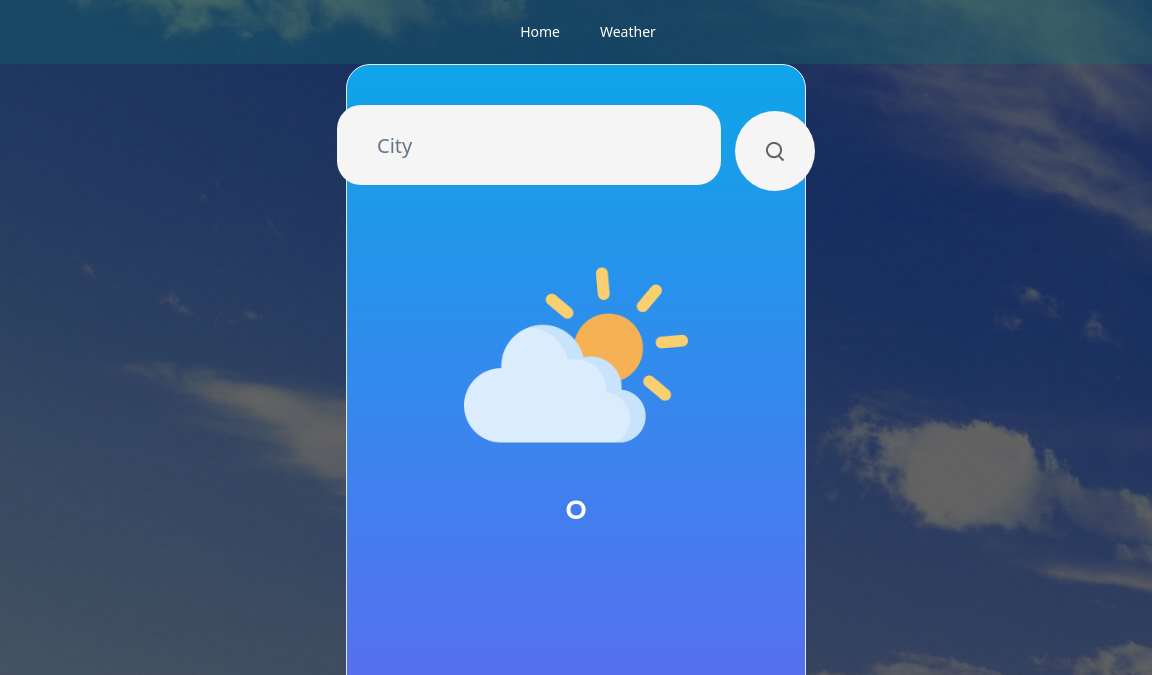
Scenario: Homepage test › change to homepage
Click the button "Home" at (540, 32), box left=508, top=14, right=572, bottom=50
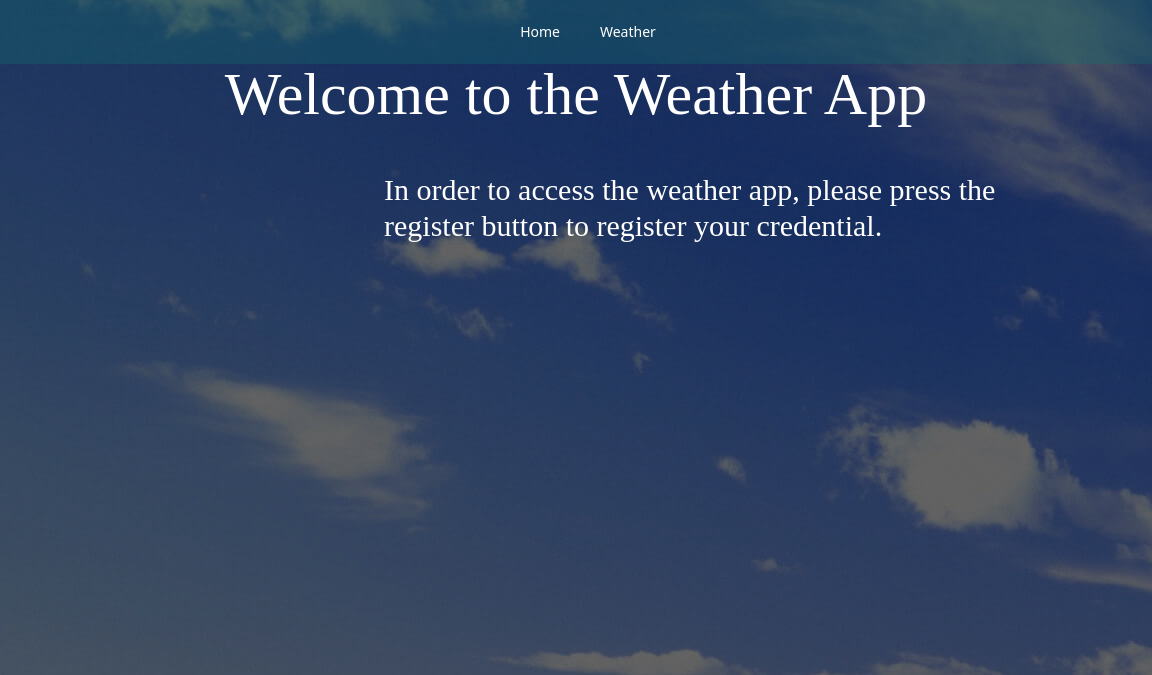
Expected: the heading "Welcome to the Weather App" is shown, left=225, top=64, right=927, bottom=172
